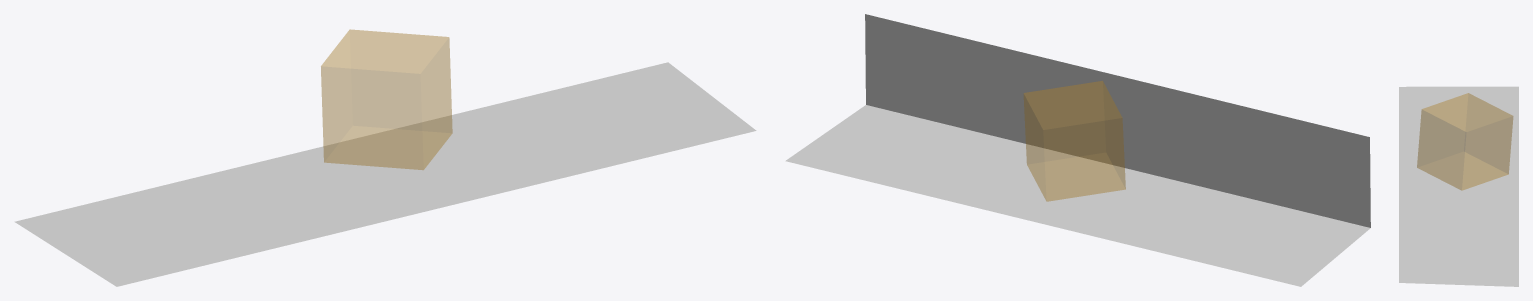
The model's file is AmberCube.glb.
The picture shows the model from 3 angles, left to right: view 1: azimuth 30°, elevation 25°; view 2: azimuth 150°, elevation 25°; view 3: azimuth 270°, elevation 25°; orthographic projection. The views are drawn at different scales.
Parts seen in each view (by area): view 1: Plane, Cube.001; view 2: Plane, Cube.001; view 3: Plane, Cube.001.
Boxes of the visible parts, x1,y1,x2,y2 form: Plane: [14, 62, 756, 286]; Cube.001: [321, 29, 452, 169]; Plane: [785, 14, 1370, 286]; Cube.001: [1024, 81, 1125, 201]; Plane: [1399, 86, 1518, 286]; Cube.001: [1417, 93, 1513, 190].
Bounding box in the file's own units: 17.69 × 3.22 × 4.48.
